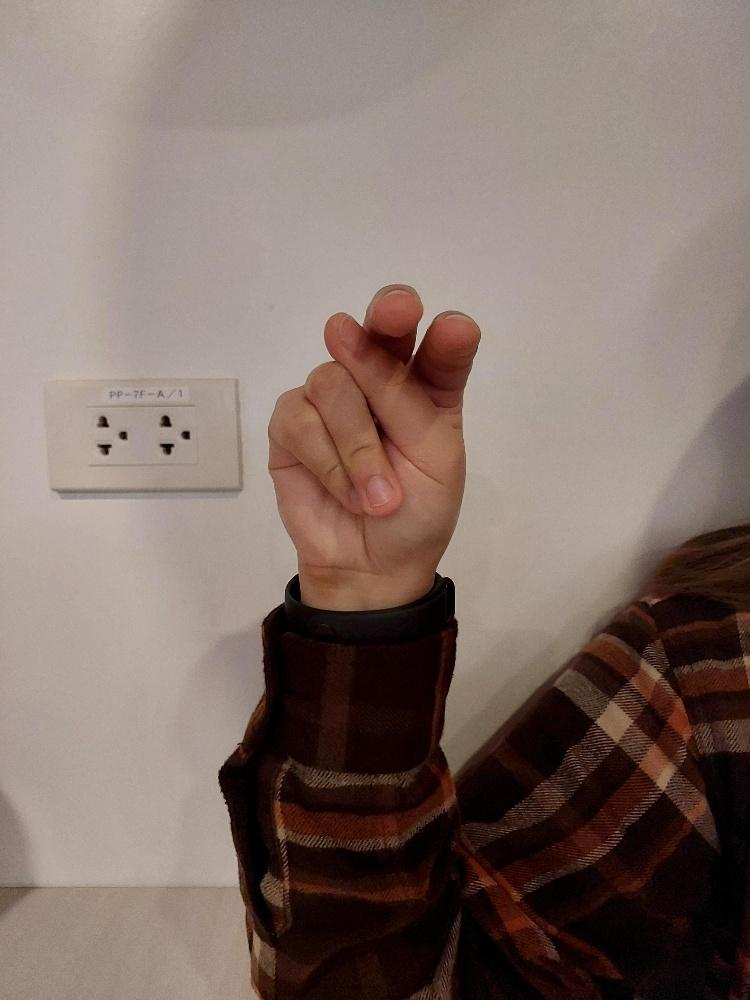n: (263, 275, 484, 590)
